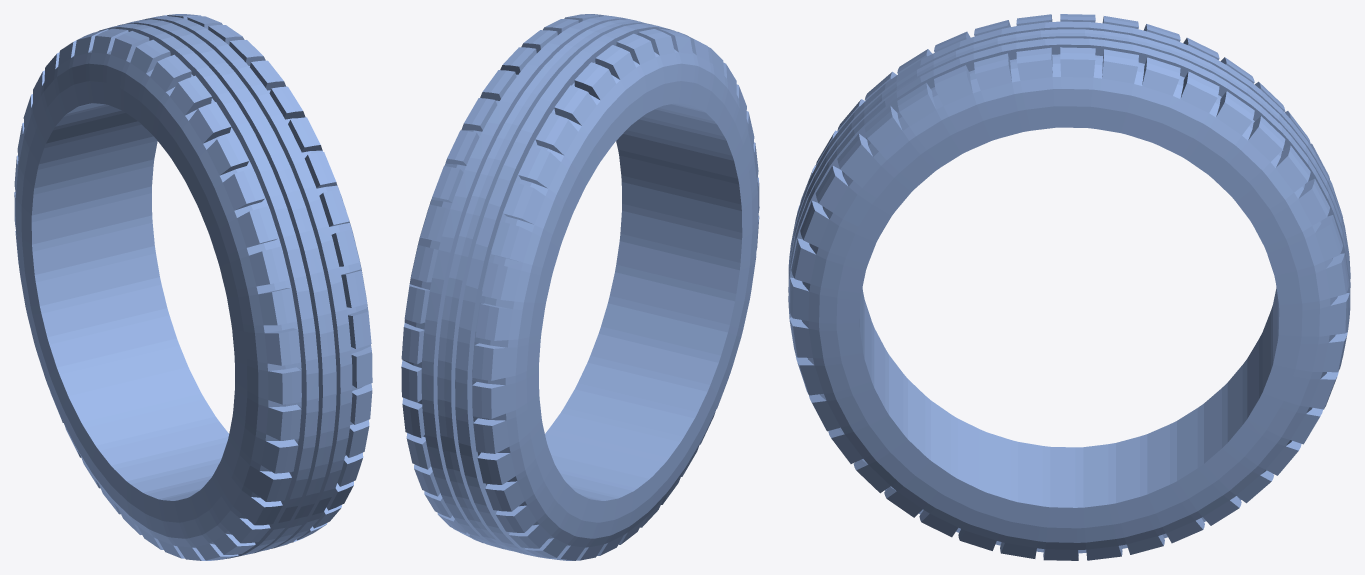
File: Tire.fbx
3 views of the same model, side by side, from view 1: azimuth 30°, elevation 25°; view 2: azimuth 150°, elevation 25°; view 3: azimuth 270°, elevation 25° (orthographic). The views are drawn at different scales.
Visible parts, largest first — view 1: Plane; view 2: Plane; view 3: Plane.
Boxes of the visible parts, box(x1,y1,x2,y2) form: Plane: box(14, 14, 372, 560); Plane: box(401, 14, 759, 560); Plane: box(788, 14, 1350, 560).
Bounding box in the file's own units: 595 × 2335 × 2335.
